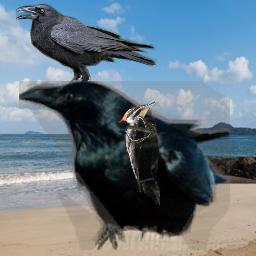Crow: (19, 81, 230, 250), (16, 4, 157, 108)
Woodpecker: (118, 101, 160, 208)
